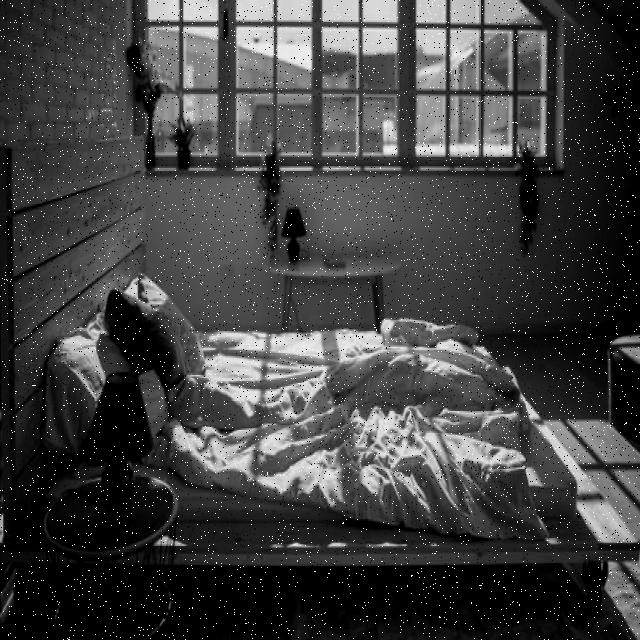bed: (64, 246, 566, 566)
